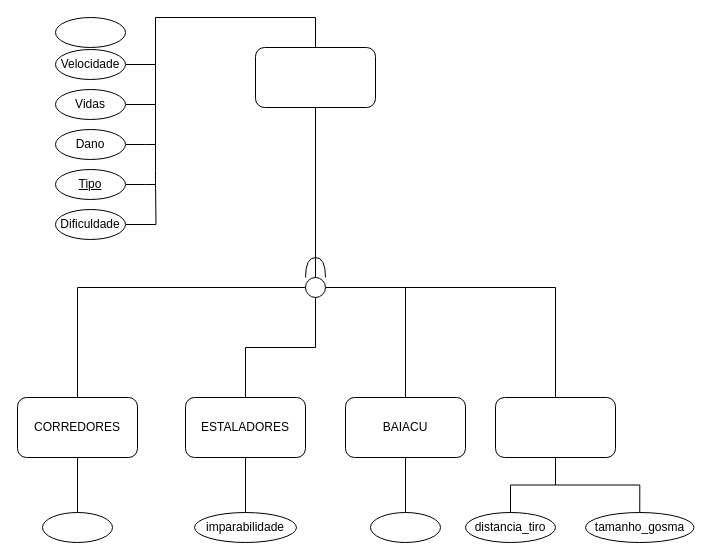
The diagram is 712 pixels wide and 560 high, and some of its shapes have lost their labels. Each missing label, with the centre of its shape:
"arranque" goes at point 77,527.
"GOSMENTO" goes at point 555,427.
"id" goes at point 90,32.
"resistencia" goes at point 405,527.
"ZUMBI" goes at point 315,77.
